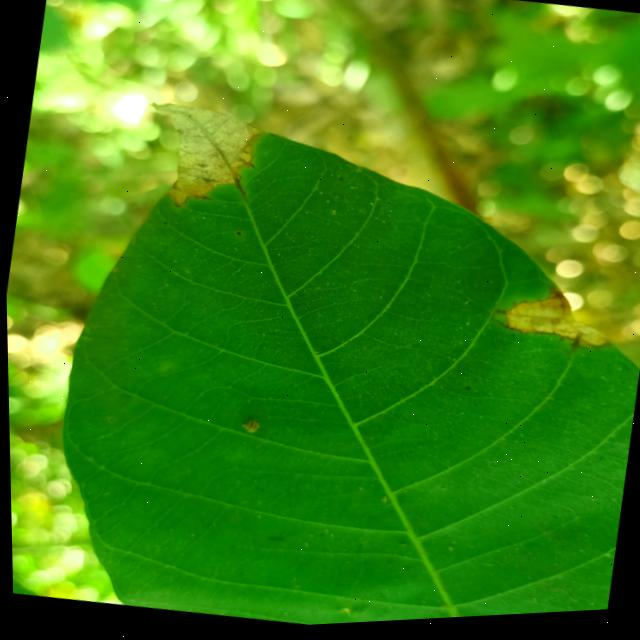Leaf-Blight: (134, 98, 271, 225), (497, 288, 615, 360)
